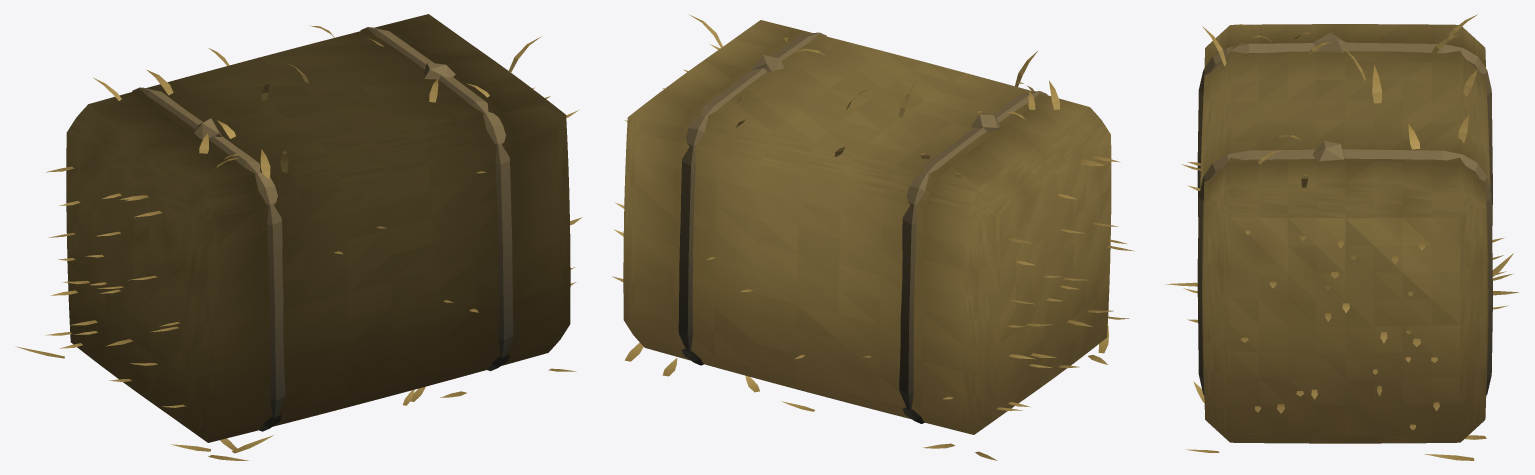
The model's file is square_hay_bale_01.glb.
The picture shows the model from 3 angles, left to right: view 1: azimuth 30°, elevation 25°; view 2: azimuth 150°, elevation 25°; view 3: azimuth 270°, elevation 25°; orthographic projection. The views are drawn at different scales.
Visible parts, largest first — view 1: square_hay_bale_01; view 2: square_hay_bale_01; view 3: square_hay_bale_01.
Boxes of the visible parts, x1,y1,x2,y2 form: square_hay_bale_01: (15, 14, 581, 460); square_hay_bale_01: (612, 14, 1134, 460); square_hay_bale_01: (1165, 14, 1519, 460).
Bounding box in the file's own units: 1.6 × 1 × 1.08.
